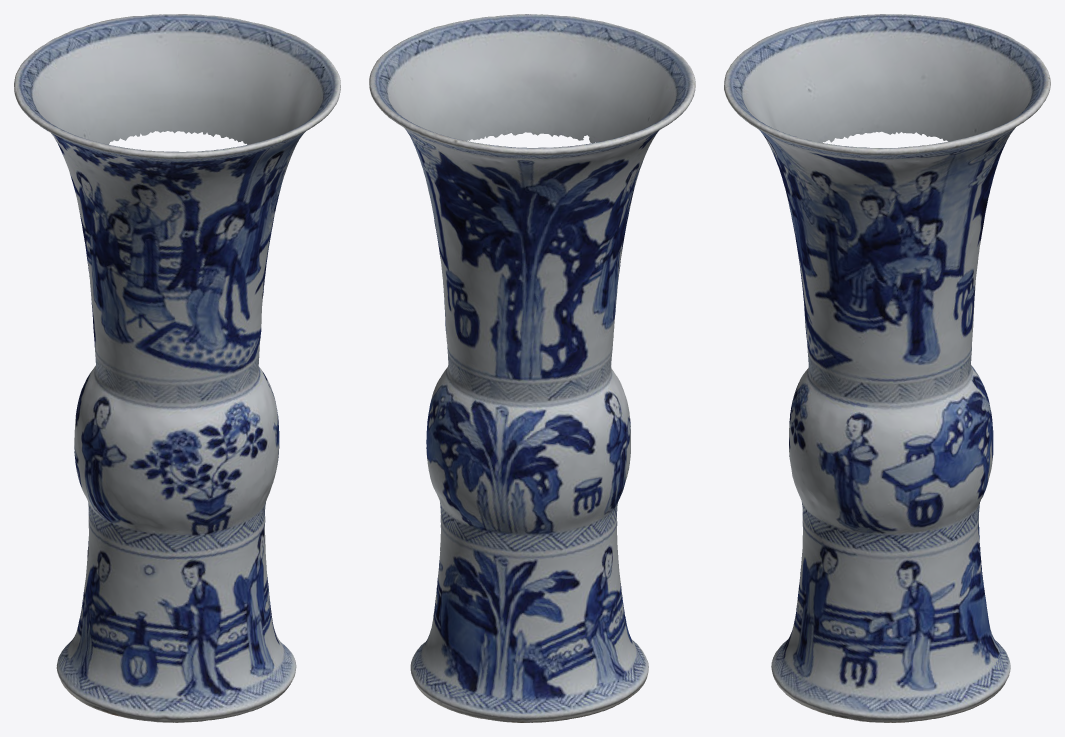
The model's file is vase1.gltf.
The picture shows the model from 3 angles, left to right: view 1: azimuth 30°, elevation 25°; view 2: azimuth 150°, elevation 25°; view 3: azimuth 270°, elevation 25°; orthographic projection.
Bounding box in the file's own units: 0.2105 × 0.4236 × 0.2109.
Materials: 1 (1 with a texture image).
